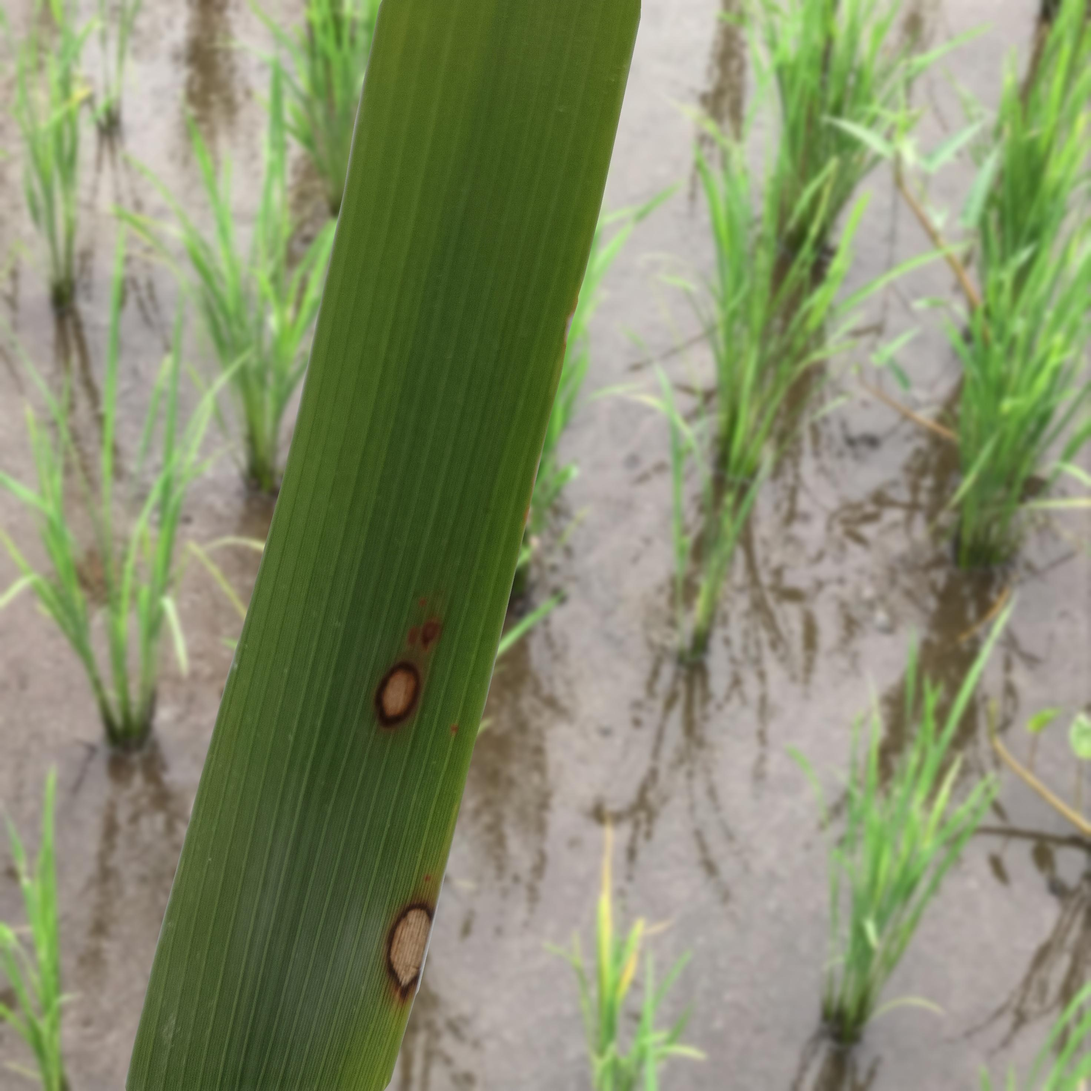LEAF BLAST: (388, 904, 431, 998), (375, 660, 421, 728)
